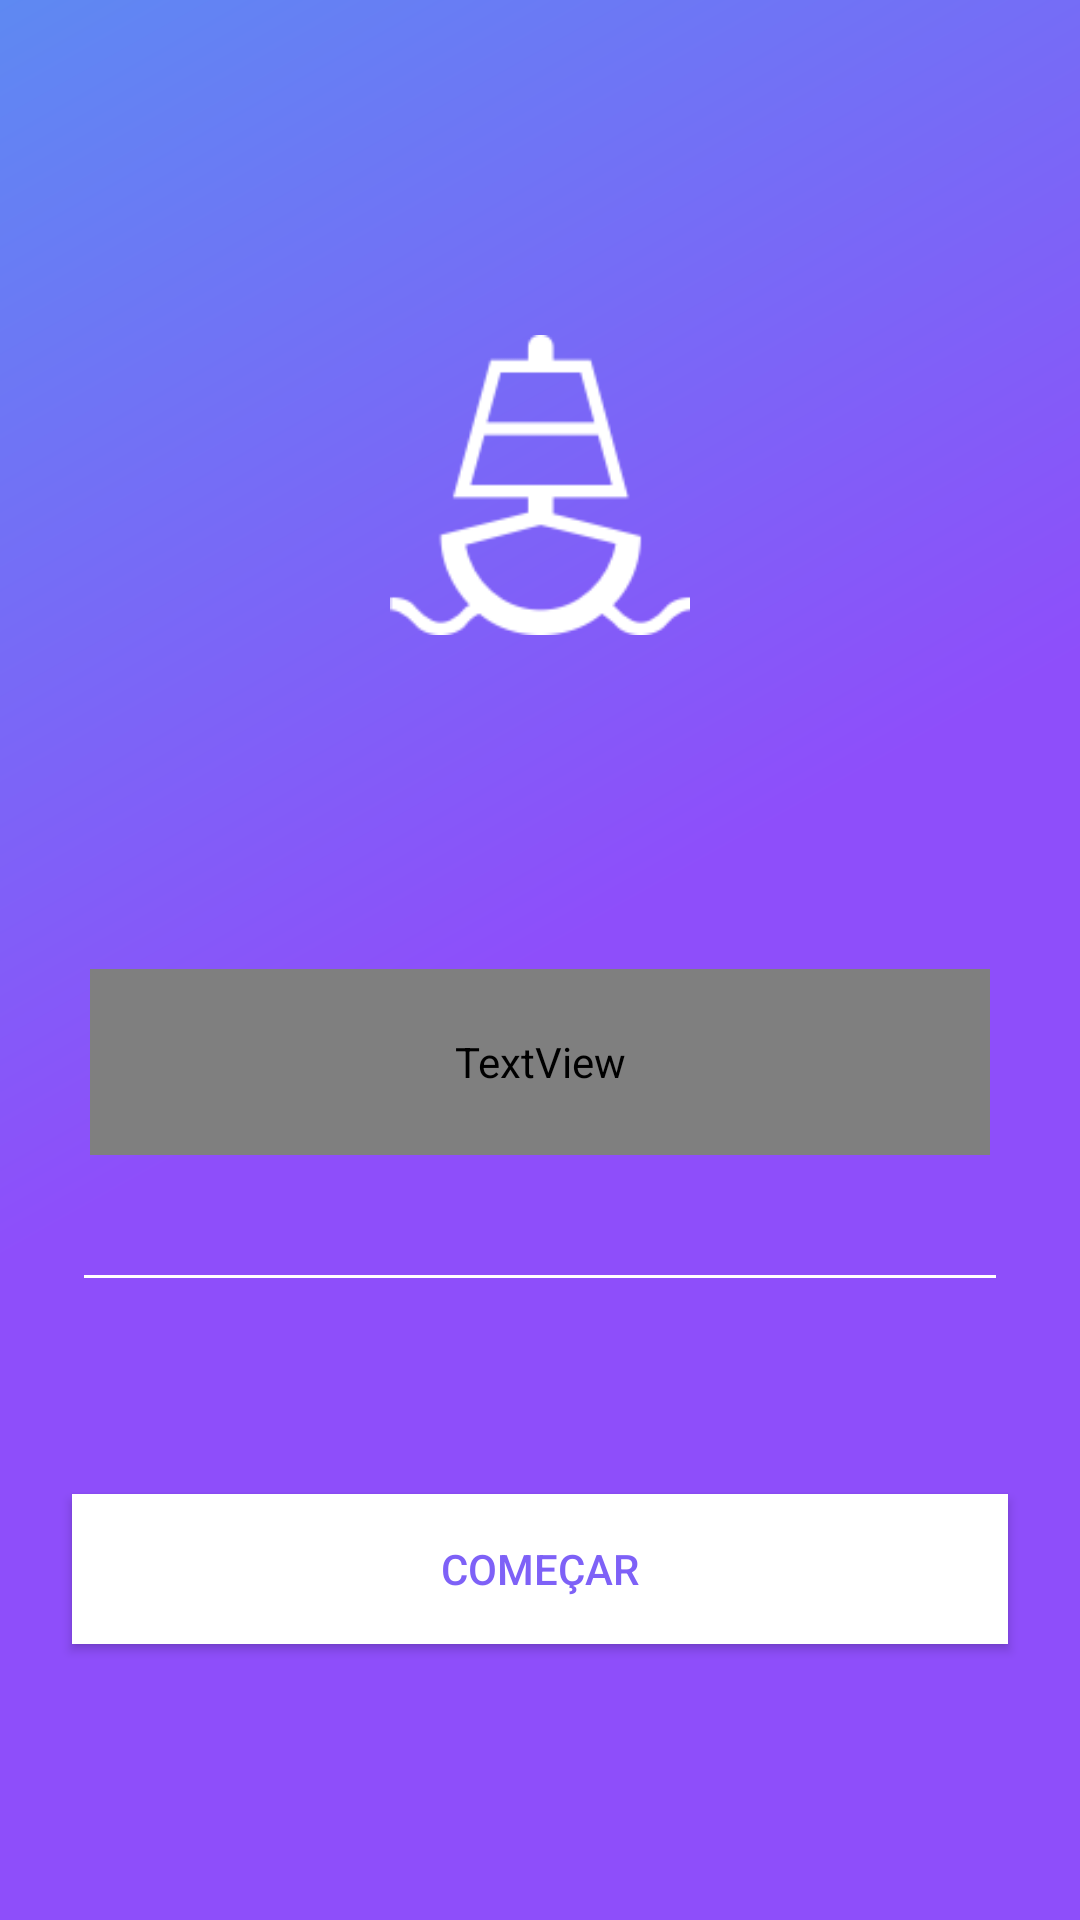

Icons on this 1080 × 1920 Android screen, each with the point to tap as (x=x, y=y):
sail: (x=540, y=485)
